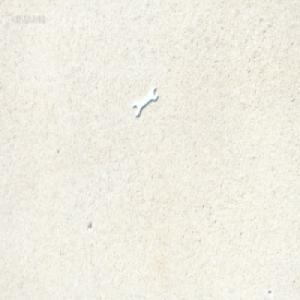Wrench: (131, 86, 158, 117)
